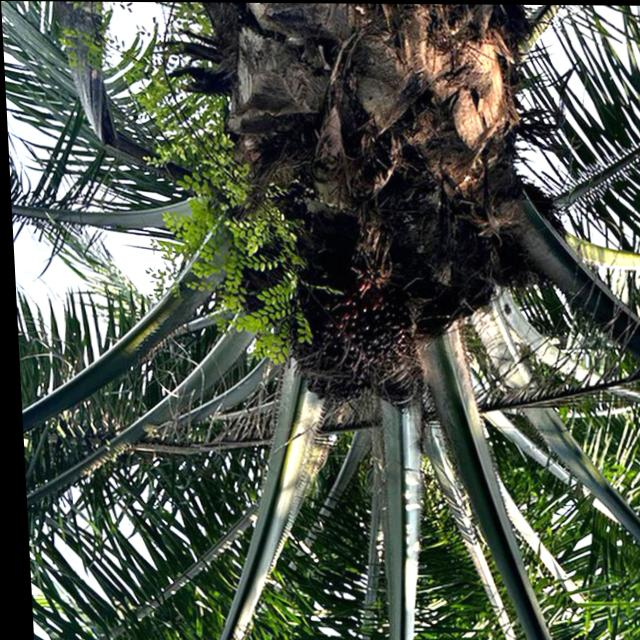unripe: (277, 236, 423, 386)
